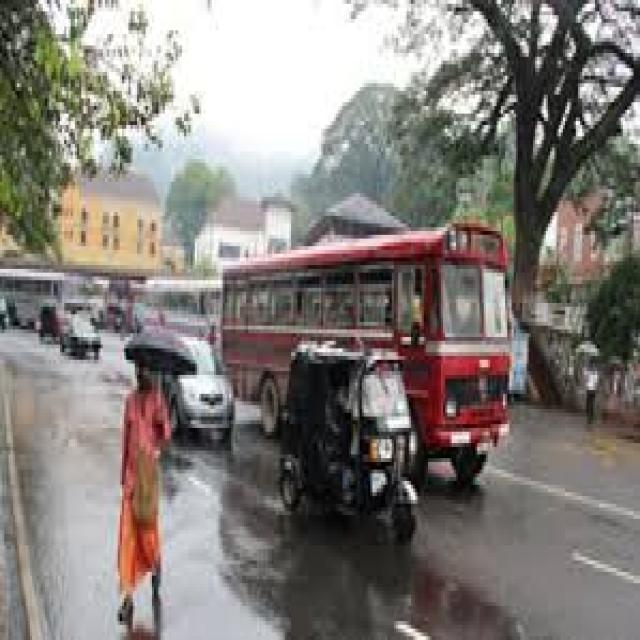bus: (223, 223, 507, 473), (0, 265, 64, 341)
car: (171, 337, 229, 443), (60, 314, 98, 360)
person: (118, 367, 169, 636)
three wheeler: (280, 345, 415, 538)
